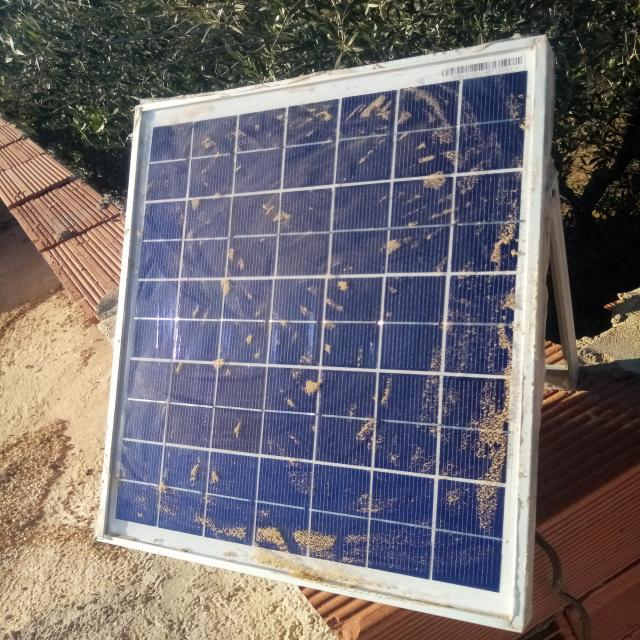faulty: (94, 34, 550, 629)
